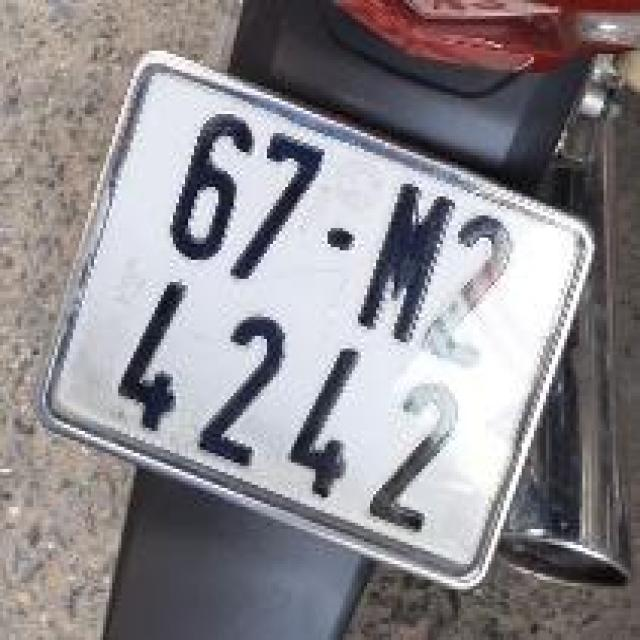2: (355, 365, 489, 548), (186, 300, 316, 477), (414, 203, 543, 378)
4: (273, 337, 398, 516), (106, 263, 222, 442)
6: (150, 95, 272, 278)
7: (216, 117, 339, 294)
M: (343, 168, 477, 356)
